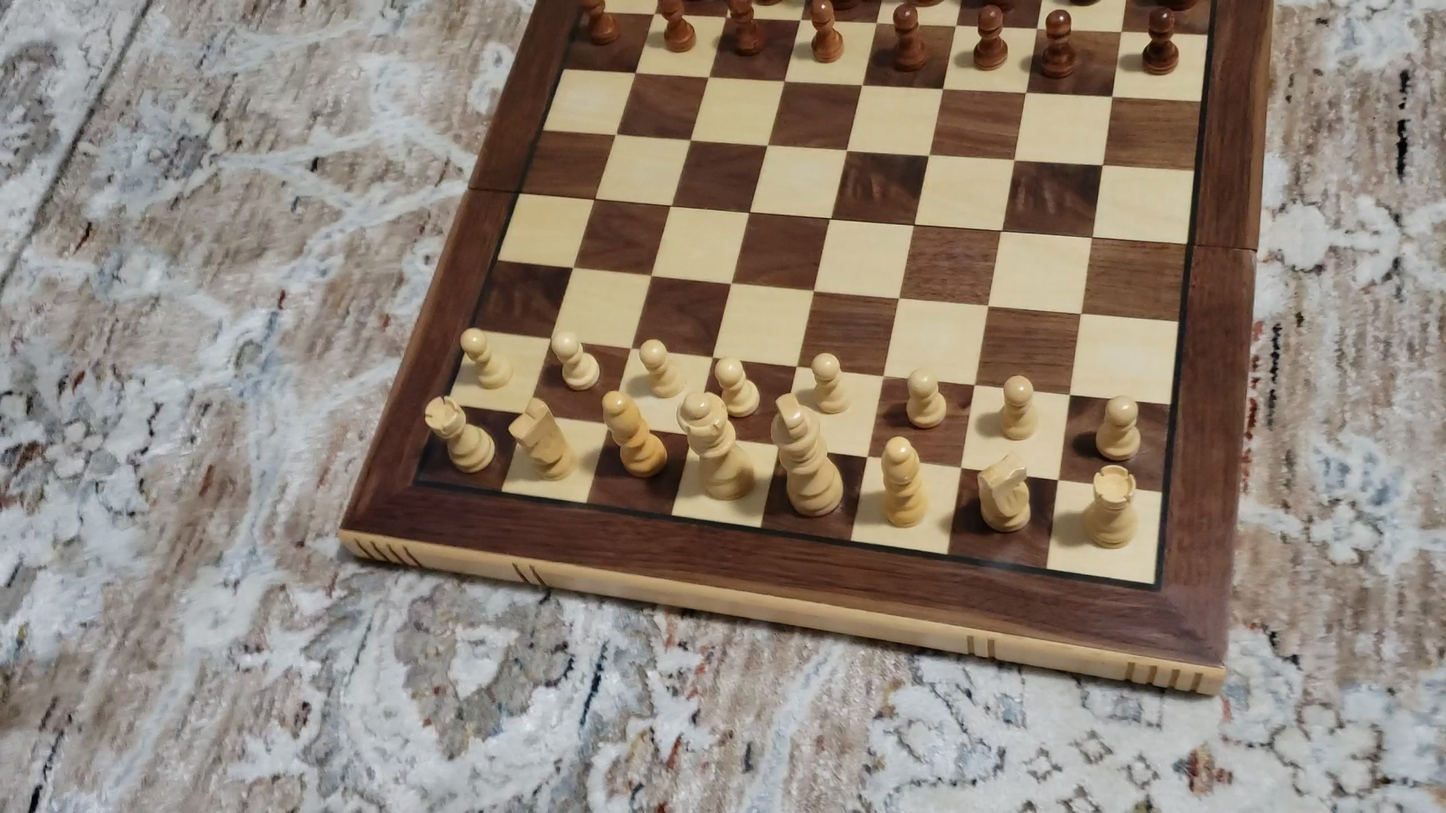black-pawn: (1037, 7, 1077, 79), (890, 1, 928, 72), (1142, 7, 1181, 76), (972, 3, 1007, 72), (806, 0, 843, 64), (726, 0, 765, 57), (658, 0, 695, 53), (577, 0, 618, 46)
white-bishop: (598, 390, 670, 482), (876, 434, 931, 532)
white-king: (768, 393, 847, 521)
white-knight: (506, 394, 576, 485), (973, 451, 1035, 536)
white-pawn: (456, 324, 515, 394), (1092, 392, 1147, 467), (545, 324, 603, 395), (900, 364, 950, 432), (995, 371, 1038, 443), (807, 349, 852, 417), (632, 334, 678, 399), (710, 356, 756, 420)
white-queen: (673, 391, 755, 506)
white-rook: (420, 392, 496, 477), (1079, 462, 1143, 552)
